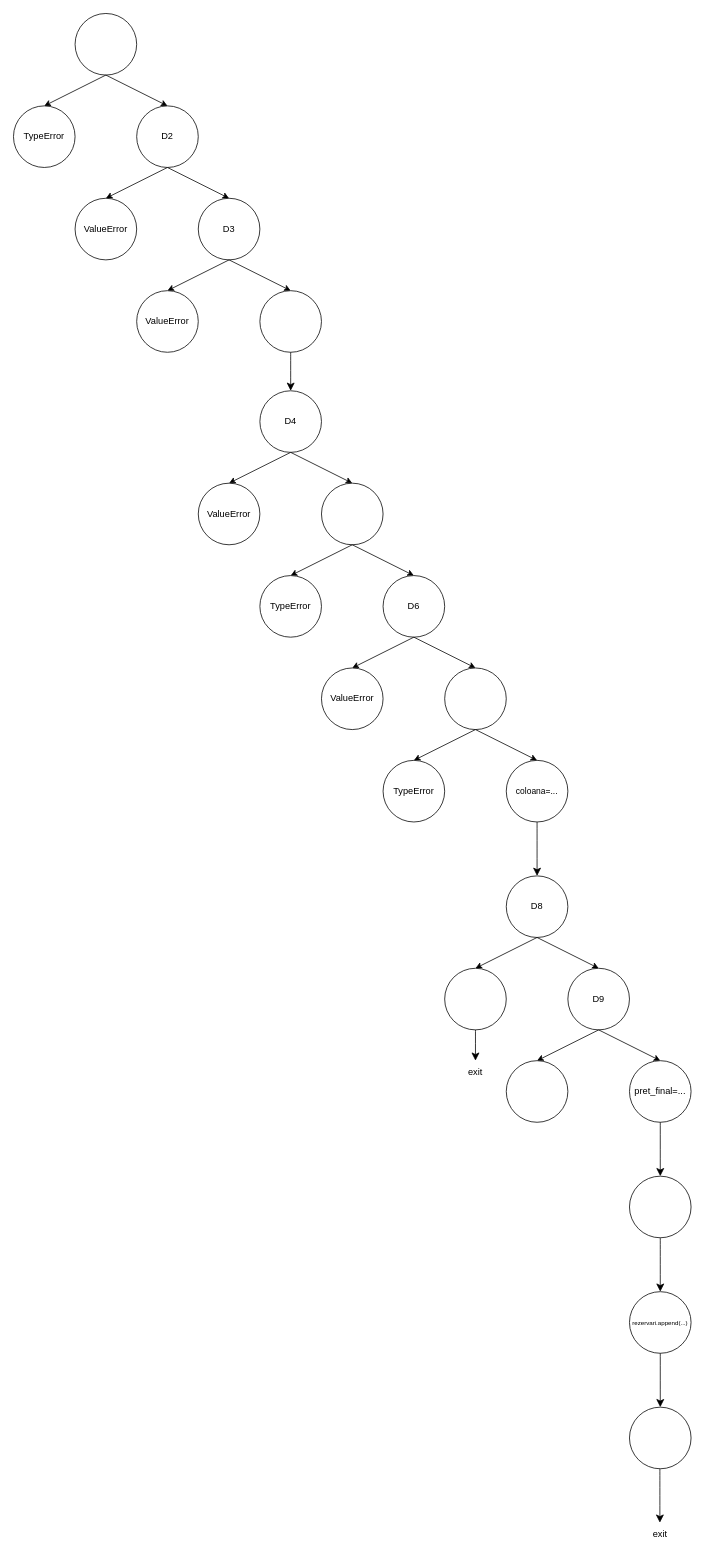
Some shapes in this 705 by 1559 pixel diagram are drawn without their labels. The centre of each missing label's shape, as x and y in pixels:
"Dezechilibru": pixel 537 1091
"Ocupat": pixel 475 999
D1: pixel 105 44
D5: pixel 352 513
D7: pixel 475 698
litera_upper=...: pixel 290 321
locuri_ocupate=....: pixel 660 1206
pret_final: pixel 660 1437
